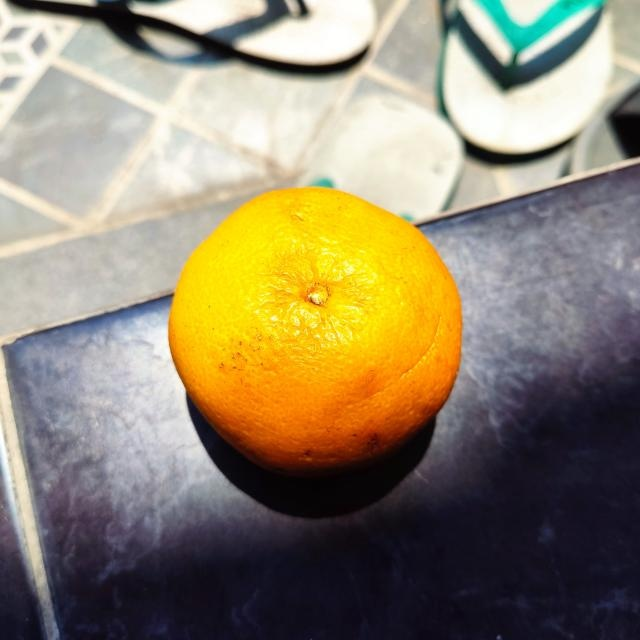agrume: (167, 187, 462, 478)
